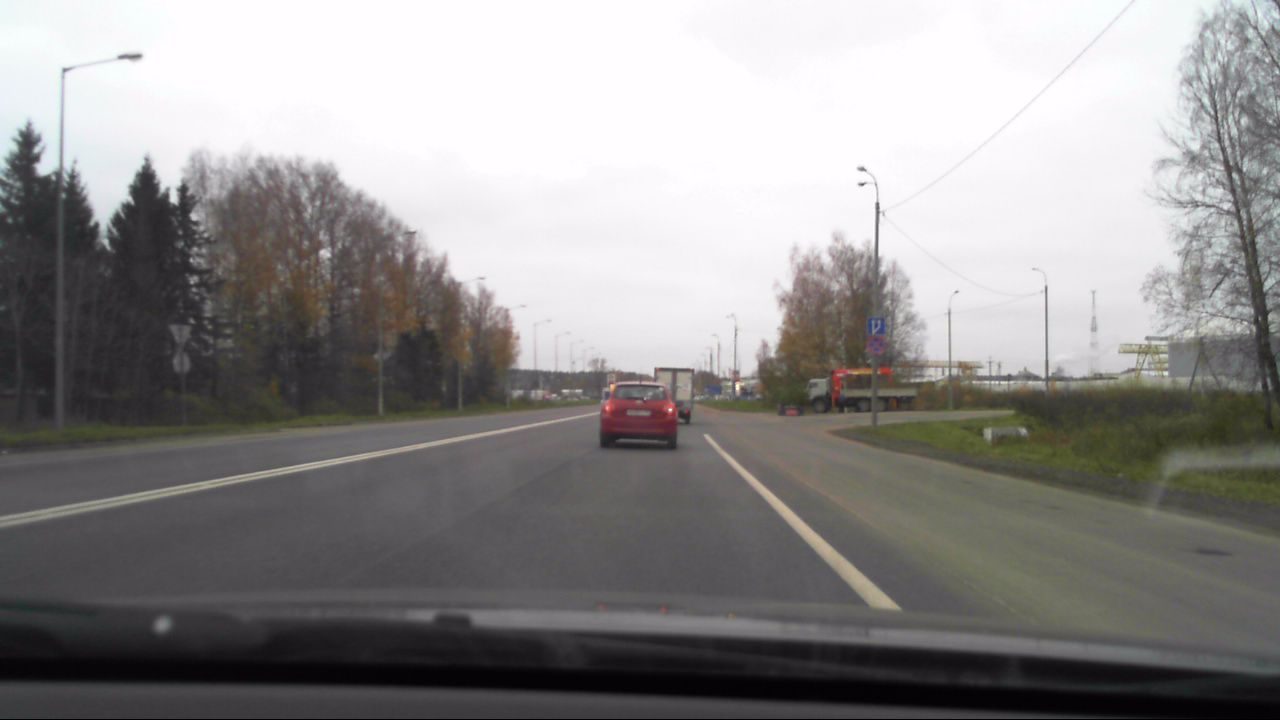No Parking: (867, 335, 883, 354)
